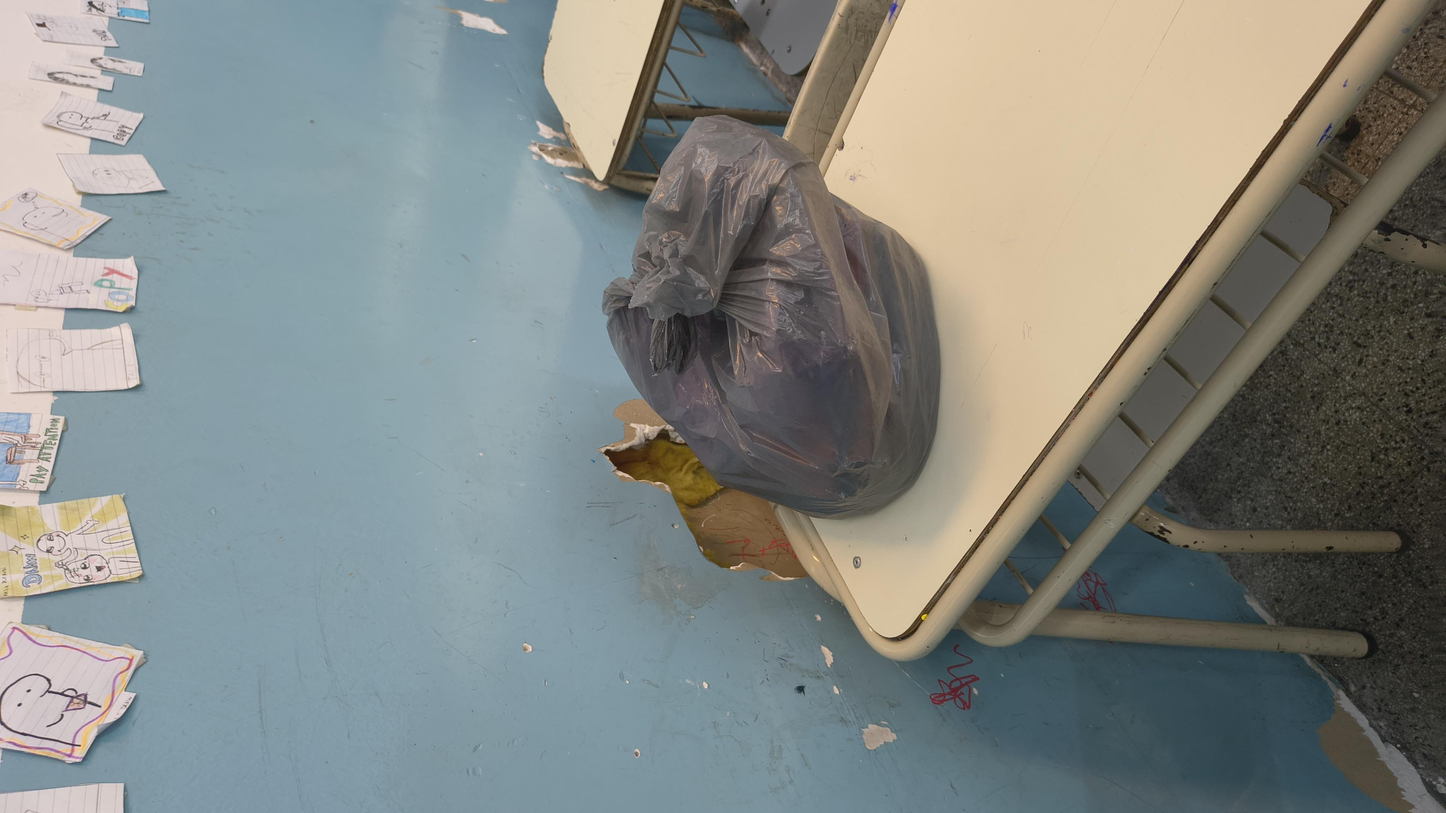Garbage: (452, 324, 1274, 556)
